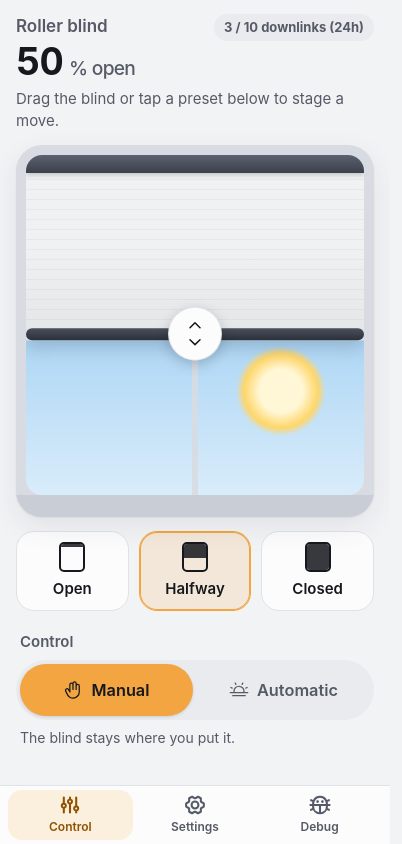
Test: HomePage and SettingsPage › stages mode switch before calling PUT /mode and allows cancel or toggling back
Later steps or results of the test are not shown.
Expected: the text "3 / 10 downlinks (24h)" is shown, left=224, top=18, right=364, bottom=37
Click the radio button labelled "Automatic".
click(284, 690)  # box left=197, top=664, right=370, bottom=716
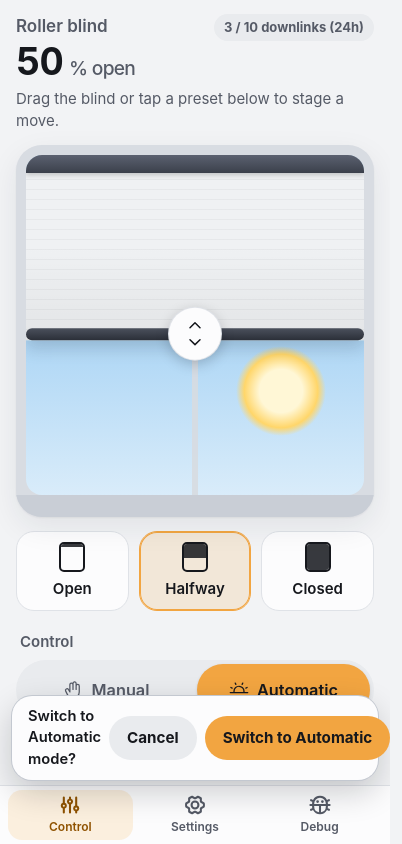
Expected: the text "Switch to Automatic mode?" is shown, left=28, top=706, right=101, bottom=770
// Toggling back to Manual cancels with zero downlinks
Click the radio button labelled "Manual".
click(106, 690)  # box left=20, top=664, right=193, bottom=716
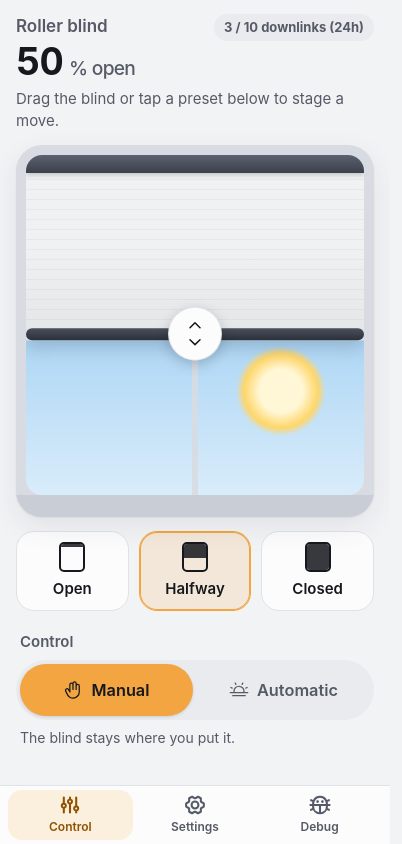
Expected: the text "Switch to Automatic mode?" is gone
// Staging again and clicking Cancel also keeps zero calls
Click the radio button labelled "Automatic".
click(284, 690)  # box left=197, top=664, right=370, bottom=716
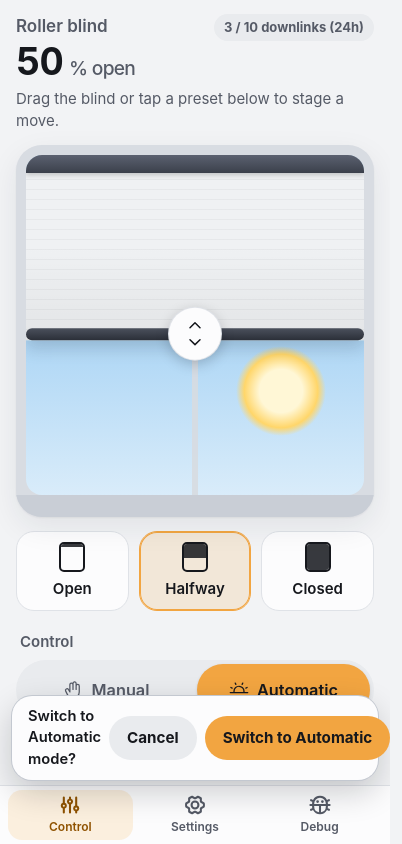
Click the button "Cancel".
click(153, 738)  # box left=109, top=716, right=197, bottom=760
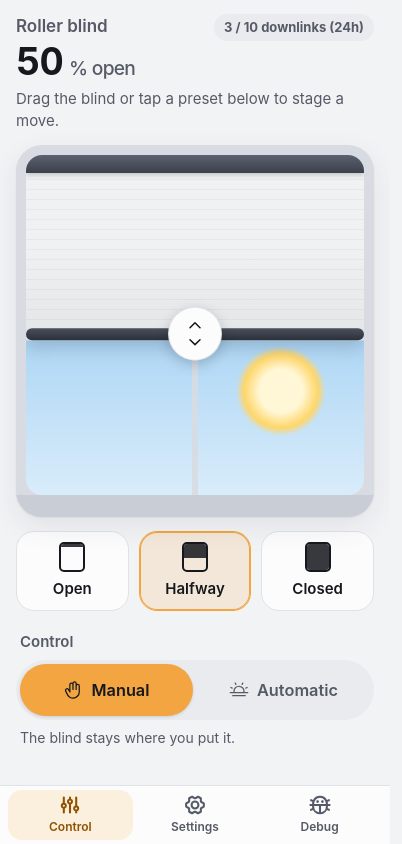
Expected: the text "Switch to Automatic mode?" is gone
